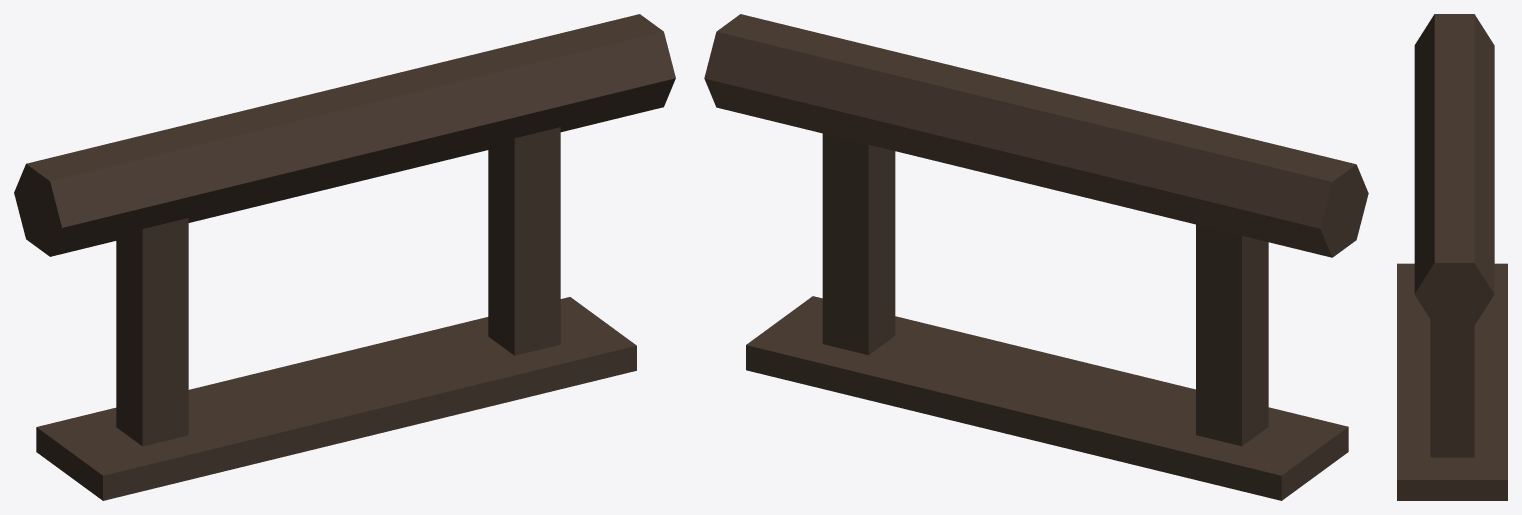
The model's file is fence_02.fbx.
3 views of the same model, side by side, from view 1: azimuth 30°, elevation 25°; view 2: azimuth 150°, elevation 25°; view 3: azimuth 270°, elevation 25° (orthographic). The views are drawn at different scales.
Parts seen in each view (by area): view 1: Cylinder, Cube.040, Cube.139, Cube.140; view 2: Cylinder, Cube.040, Cube.139, Cube.140; view 3: Cylinder, Cube.040, Cube.139.
Boxes of the visible parts, x1=… form: Cylinder: x1=14, y1=14, x2=675, y2=256; Cube.040: x1=36, y1=297, x2=636, y2=500; Cube.139: x1=488, y1=127, x2=560, y2=355; Cube.140: x1=116, y1=218, x2=188, y2=446; Cylinder: x1=704, y1=14, x2=1368, y2=257; Cube.040: x1=746, y1=296, x2=1348, y2=500; Cube.139: x1=822, y1=133, x2=895, y2=355; Cube.140: x1=1196, y1=224, x2=1268, y2=446; Cylinder: x1=1414, y1=14, x2=1494, y2=325; Cube.040: x1=1397, y1=263, x2=1507, y2=500; Cube.139: x1=1430, y1=319, x2=1474, y2=457.
Bounding box in the file's own units: 1472 × 734 × 277.
